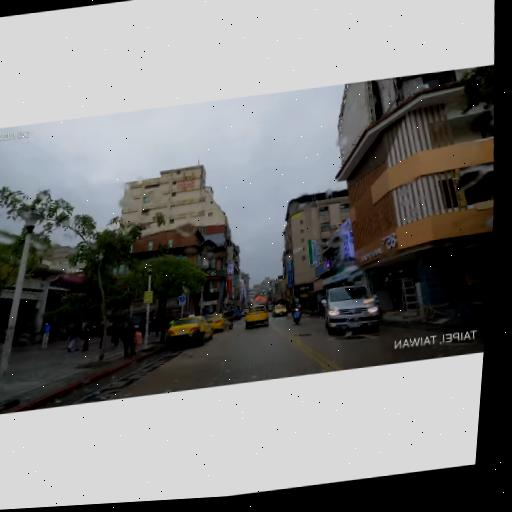Car: (320, 276, 386, 340), (161, 310, 218, 351), (239, 302, 271, 332), (199, 311, 232, 338), (270, 301, 288, 319)
